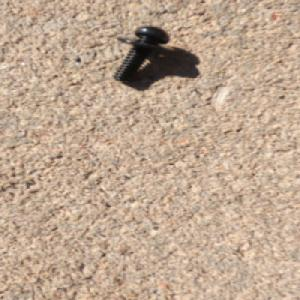BoltWasher: (111, 25, 178, 83)
